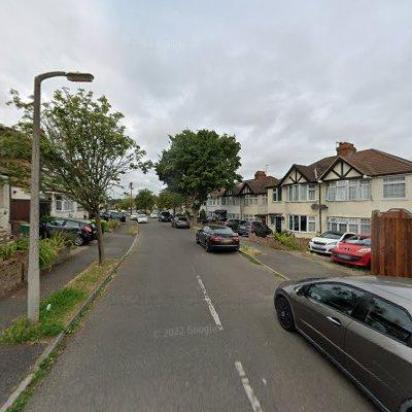stationary-car-offstreet: (39, 218, 98, 246), (330, 233, 372, 269), (308, 231, 356, 255), (237, 219, 272, 237), (104, 212, 126, 222), (221, 217, 238, 226)
stationary-car-onstreet: (272, 274, 412, 412), (195, 224, 241, 254), (172, 215, 190, 229), (138, 214, 148, 224), (130, 212, 140, 220)
stationary-light-truck-onstreet: (158, 211, 172, 223)
